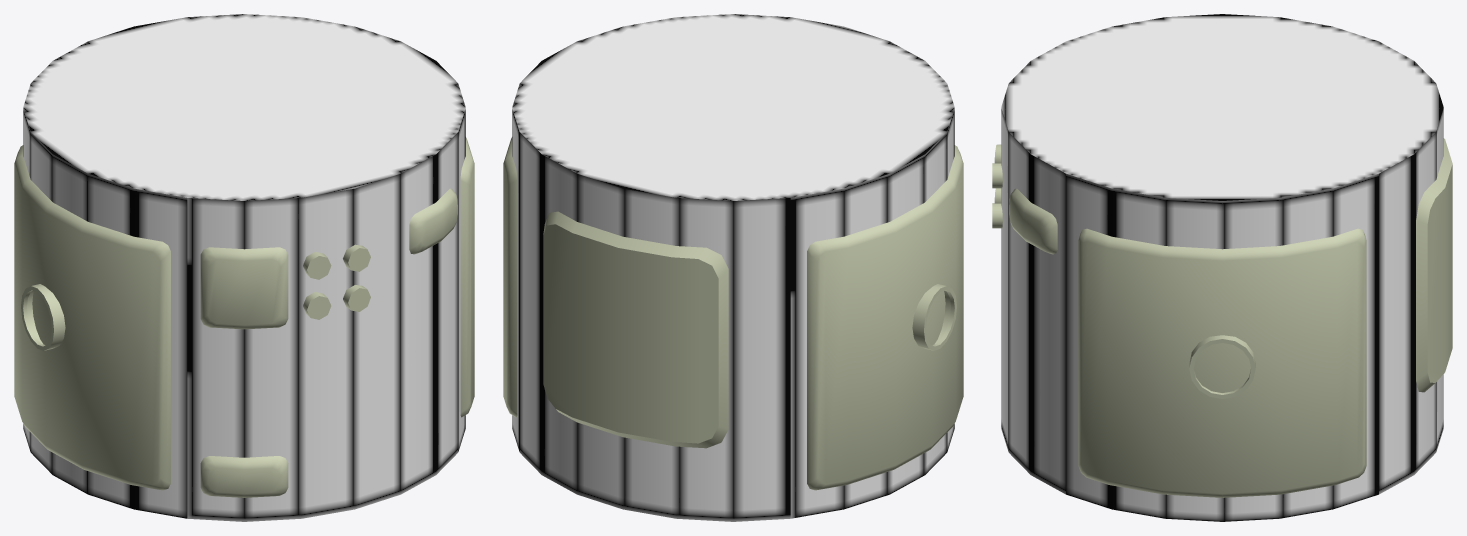
The model's file is tucana_crew_s1_1_interior.obj.
The picture shows the model from 3 angles, left to right: view 1: azimuth 30°, elevation 25°; view 2: azimuth 150°, elevation 25°; view 3: azimuth 270°, elevation 25°; orthographic projection.
Visible parts, largest first — view 1: tucana_crew_s1_1_interior, tucana_crew_s1_1_interior_mask; view 2: tucana_crew_s1_1_interior, tucana_crew_s1_1_interior_mask; view 3: tucana_crew_s1_1_interior, tucana_crew_s1_1_interior_mask.
Part boxes in pixels (<box>): tucana_crew_s1_1_interior: <box>23,14,465,521</box>; tucana_crew_s1_1_interior_mask: <box>14,137,474,497</box>; tucana_crew_s1_1_interior: <box>512,14,954,521</box>; tucana_crew_s1_1_interior_mask: <box>503,137,963,490</box>; tucana_crew_s1_1_interior: <box>1001,14,1443,521</box>; tucana_crew_s1_1_interior_mask: <box>992,138,1452,497</box>.
Bounding box in the file's own units: 1.35 × 1 × 1.3.
Materials: 2 (1 with a texture image).
